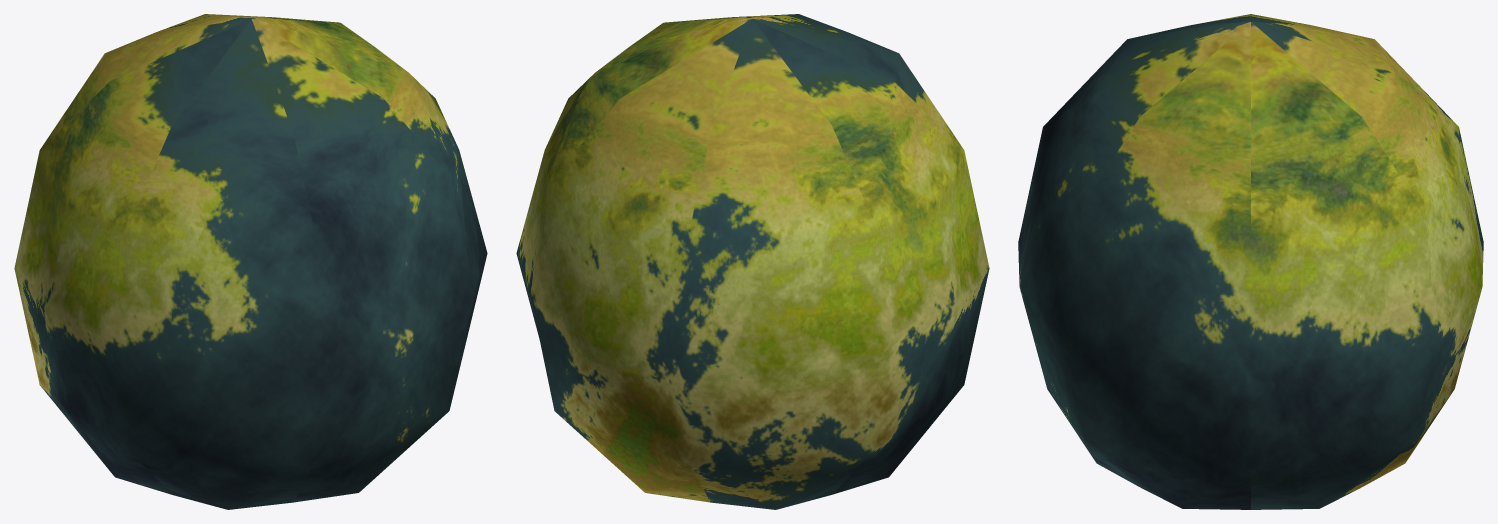
File: Planet4.fbx
3 renders of one model, left to right at view 1: azimuth 30°, elevation 25°; view 2: azimuth 150°, elevation 25°; view 3: azimuth 270°, elevation 25°, orthographic.
Visible parts, largest first — view 1: pasted__pasted__pSphere1; view 2: pasted__pasted__pSphere1; view 3: pasted__pasted__pSphere1.
Part boxes in pixels (x1=…): pasted__pasted__pSphere1: x1=14, y1=14, x2=487, y2=509; pasted__pasted__pSphere1: x1=516, y1=14, x2=989, y2=509; pasted__pasted__pSphere1: x1=1018, y1=14, x2=1483, y2=509.
Bounding box in the file's own units: 1.56 × 1.76 × 1.53.
Materials: 1 (1 with a texture image).
